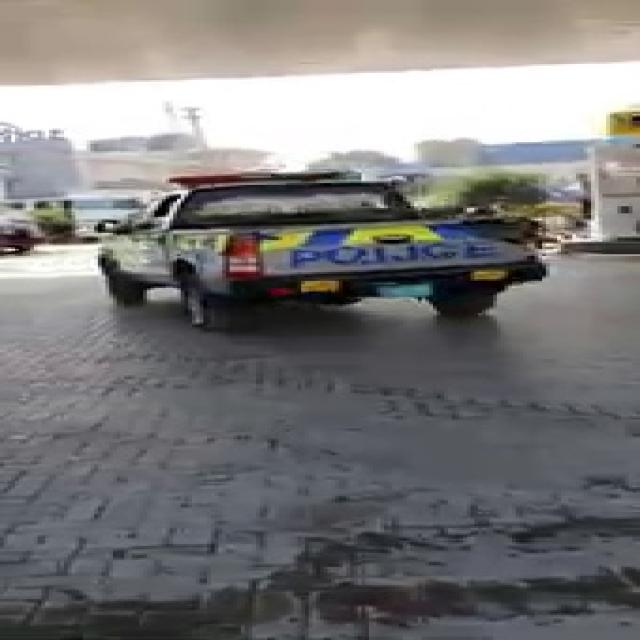police: (98, 175, 550, 340)
